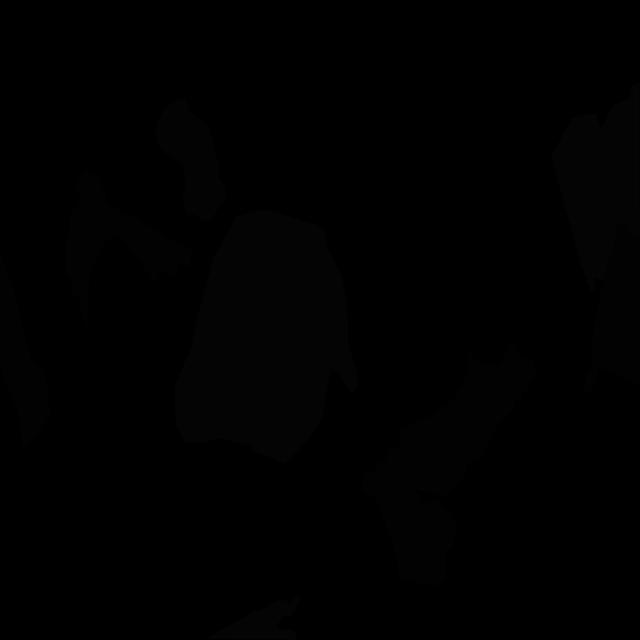cardboard: (397, 343, 538, 497), (65, 169, 194, 328), (361, 447, 457, 587), (0, 253, 52, 450), (584, 224, 640, 396)
metal: (156, 97, 226, 221)
soft_plastic: (175, 209, 358, 464), (551, 82, 640, 292), (206, 596, 299, 640)
